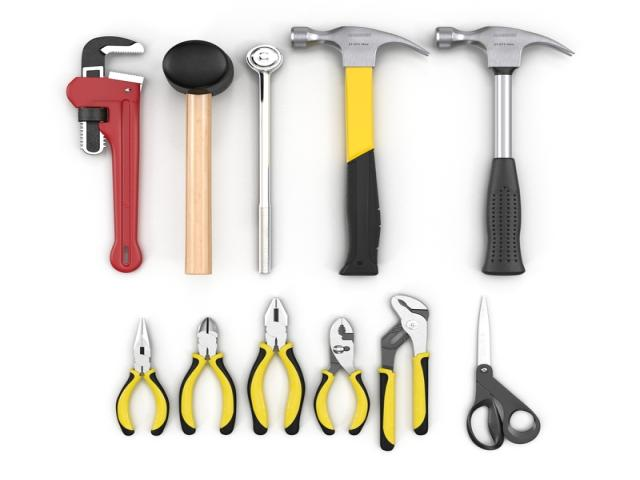Cutting pliers: (180, 318, 236, 435)
Gas wrench: (379, 295, 430, 451)
Hammer: (435, 26, 574, 275), (293, 26, 429, 276)
Needle-nose pliers: (116, 319, 169, 436)
Pliers: (248, 298, 305, 435), (314, 318, 370, 435)
Ratchet: (246, 45, 282, 272)
